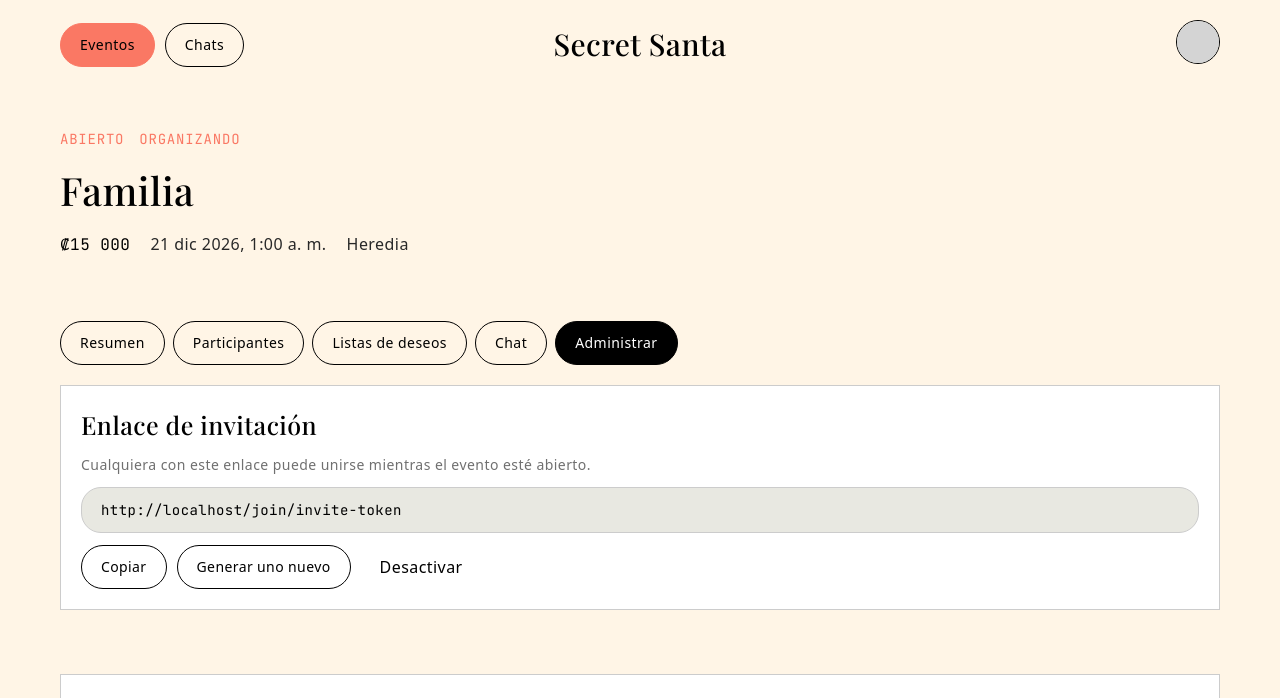
InviteLinkCard › a clipboard failure is reported
Click the button "Copiar" at (124, 567), box [81,545,166,589]
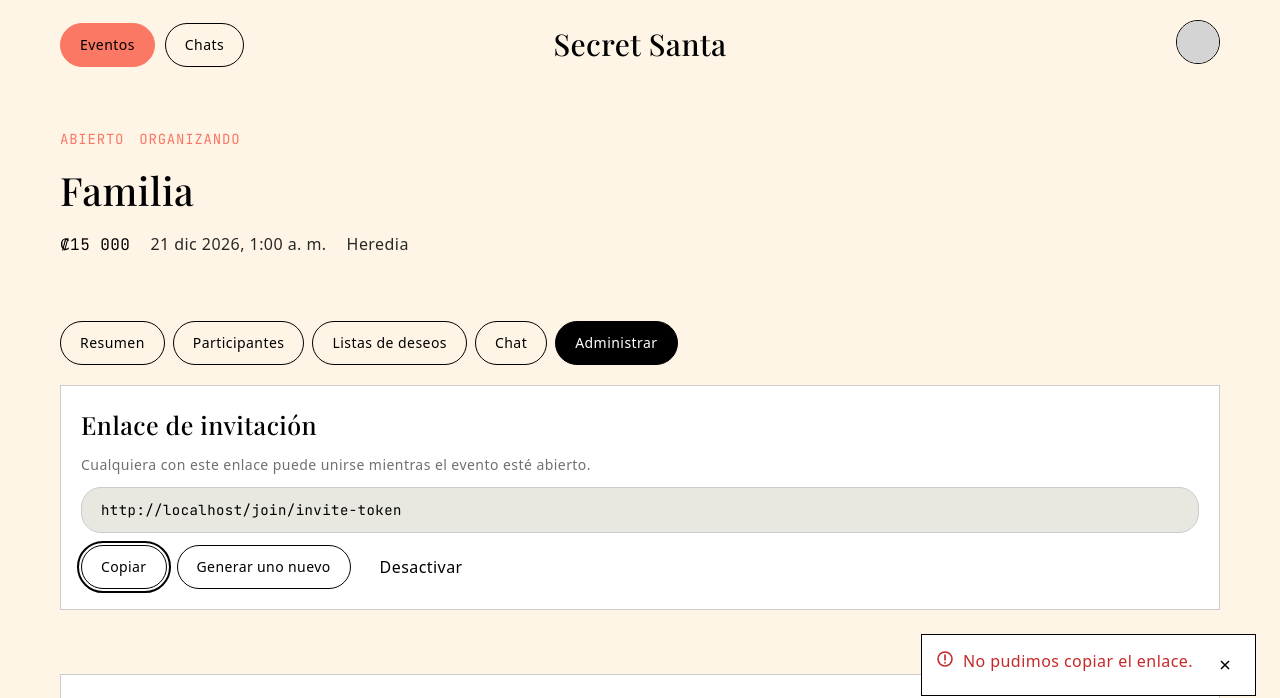
Check: the text "No pudimos copiar el enlace." is shown, box [963,649,1193,673]
